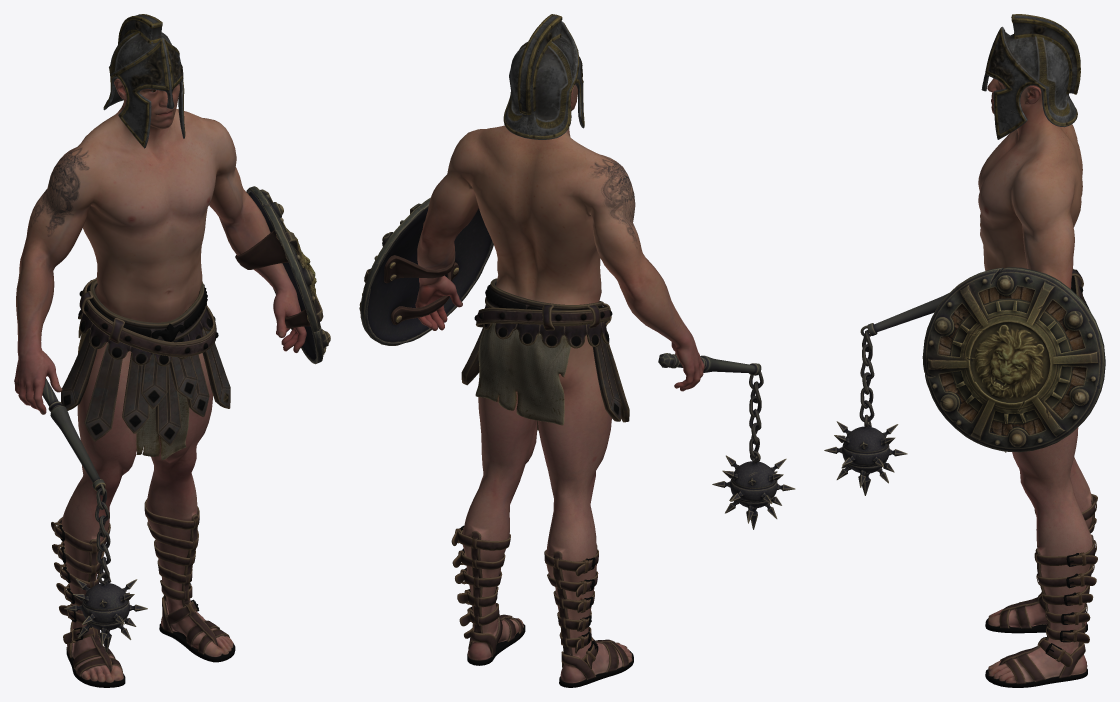
Rendered from Gladiator.fbx.
3 renders of one model, left to right at view 1: azimuth 30°, elevation 25°; view 2: azimuth 150°, elevation 25°; view 3: azimuth 270°, elevation 25°, orthographic.
Parts seen in each view (by area): view 1: Gladiator_0, Gladiator_weapon_0; view 2: Gladiator_0, Gladiator_weapon_0; view 3: Gladiator_0, Gladiator_weapon_0.
Part boxes in pixels (x1,y1,x2,y2): Gladiator_0: (14,14,306,687); Gladiator_weapon_0: (42,186,330,652); Gladiator_0: (415,14,704,687); Gladiator_weapon_0: (359,197,795,529); Gladiator_0: (978,14,1097,687); Gladiator_weapon_0: (824,267,1105,495).
Size of the model in its own units: 5.27 by 10 by 4.02.
